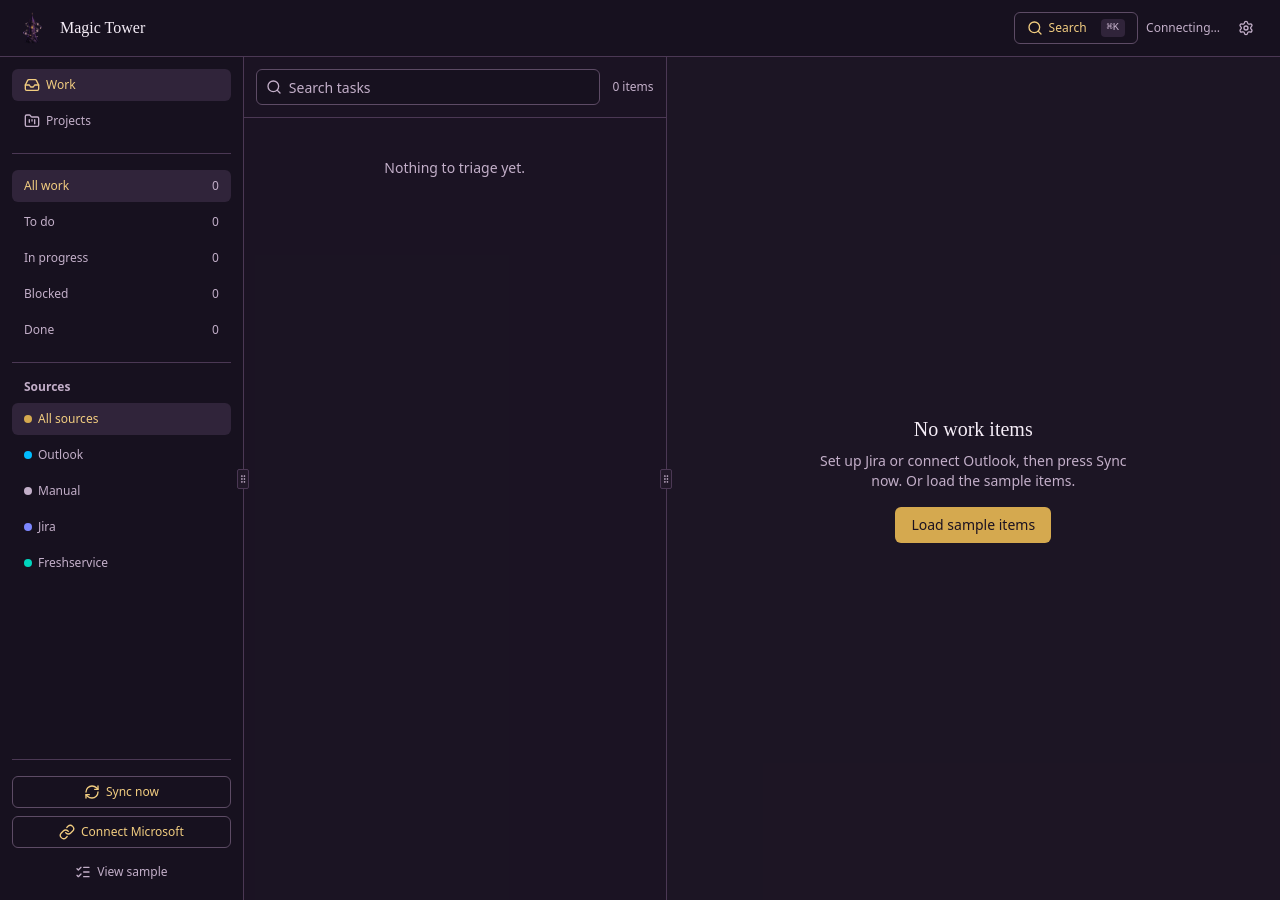
Mail layout › layout opens the command palette on Cmd+K and jumps to the chosen work item
Expected: the element named "Work queue" is shown, [244, 57, 666, 177]
Press k
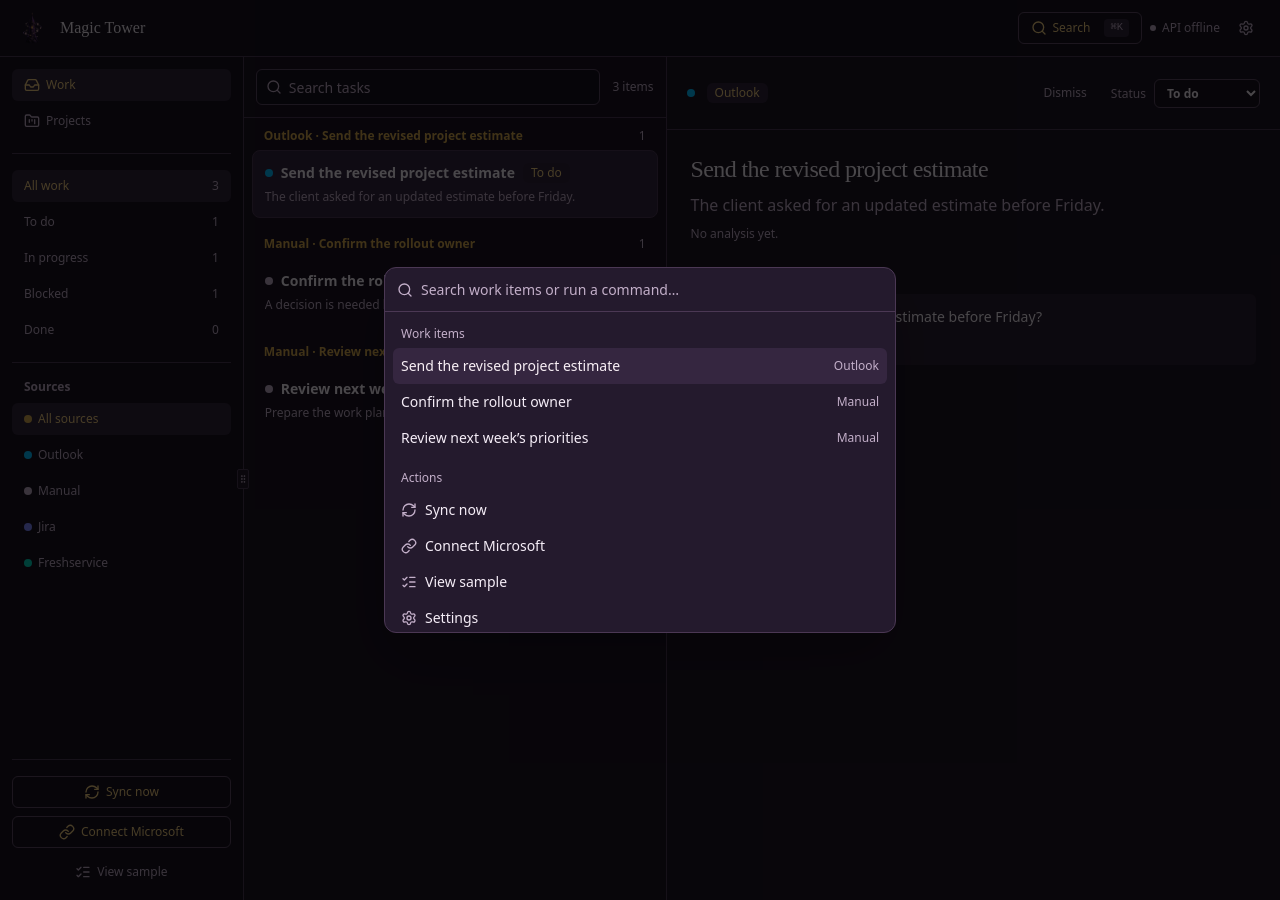
Type "rollout" into the dropdown. click: (652, 290)
box: [421, 270, 883, 310]
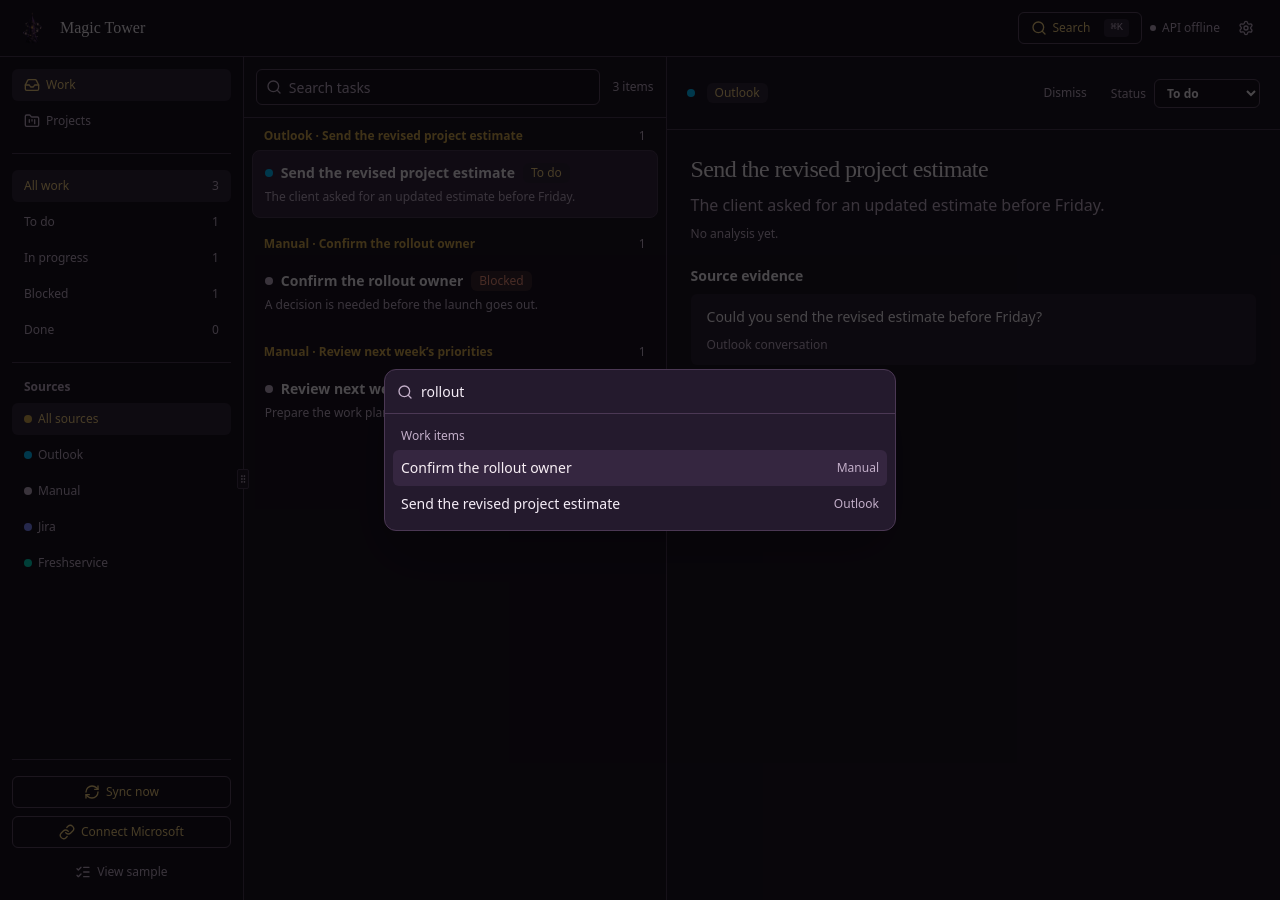
Click the option "Confirm the rollout owner Manual". click: (486, 468)
box: [393, 450, 887, 486]
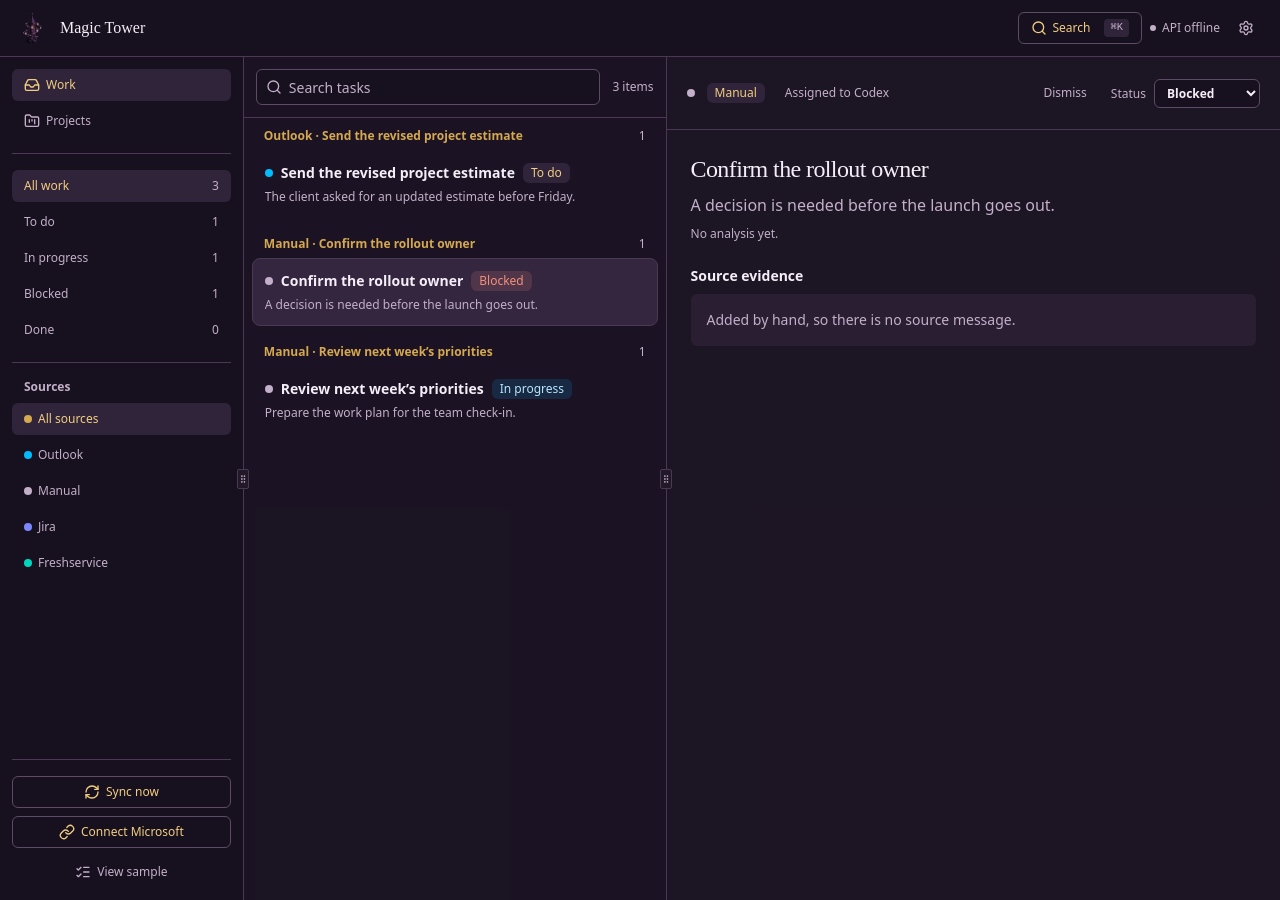
Expected: the heading "Confirm the rollout owner" is shown, [690, 156, 928, 182]
